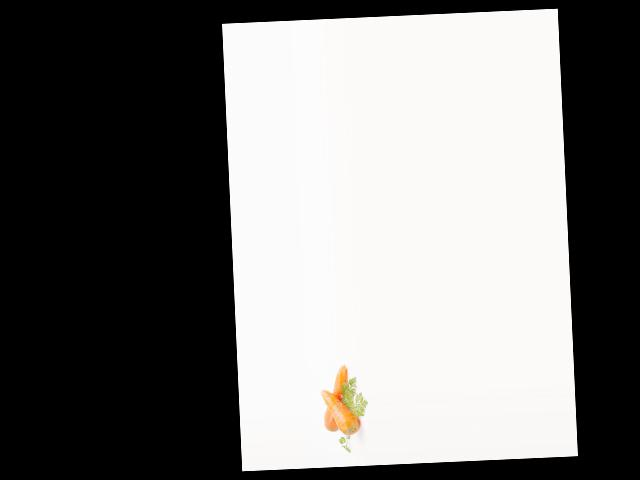carrot: (321, 364, 350, 433)
